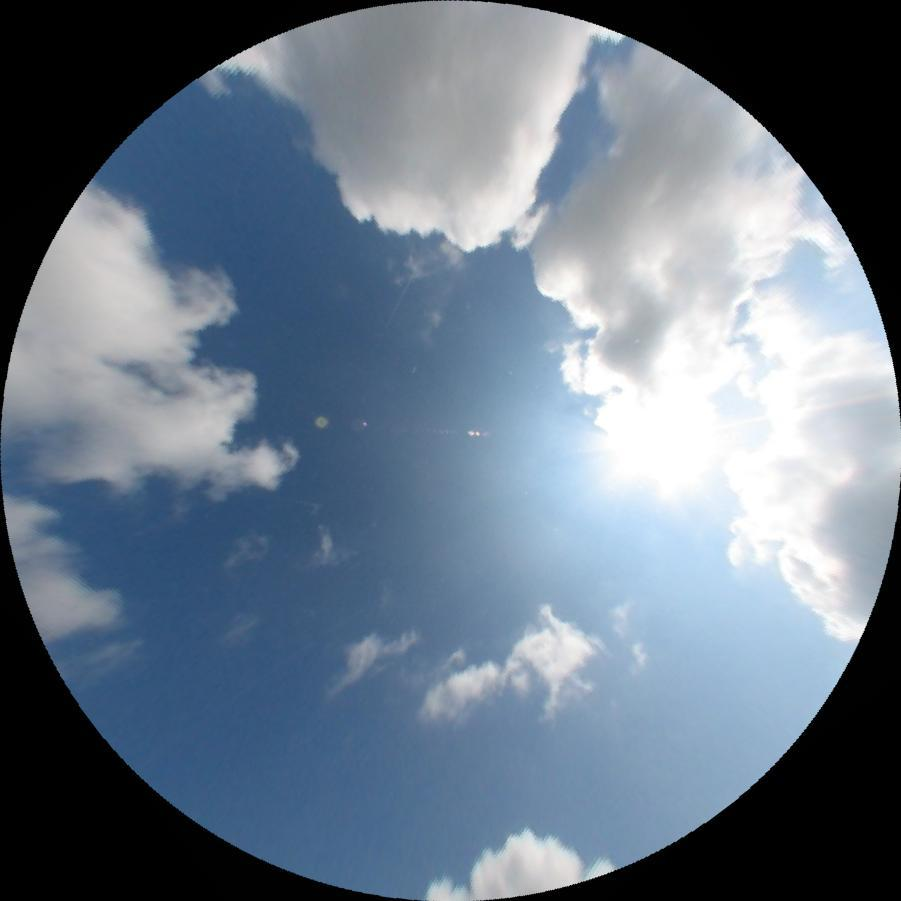contrail young: (384, 277, 412, 330), (281, 496, 322, 508)
parasite: (713, 388, 896, 430)
sun: (602, 367, 727, 493)
